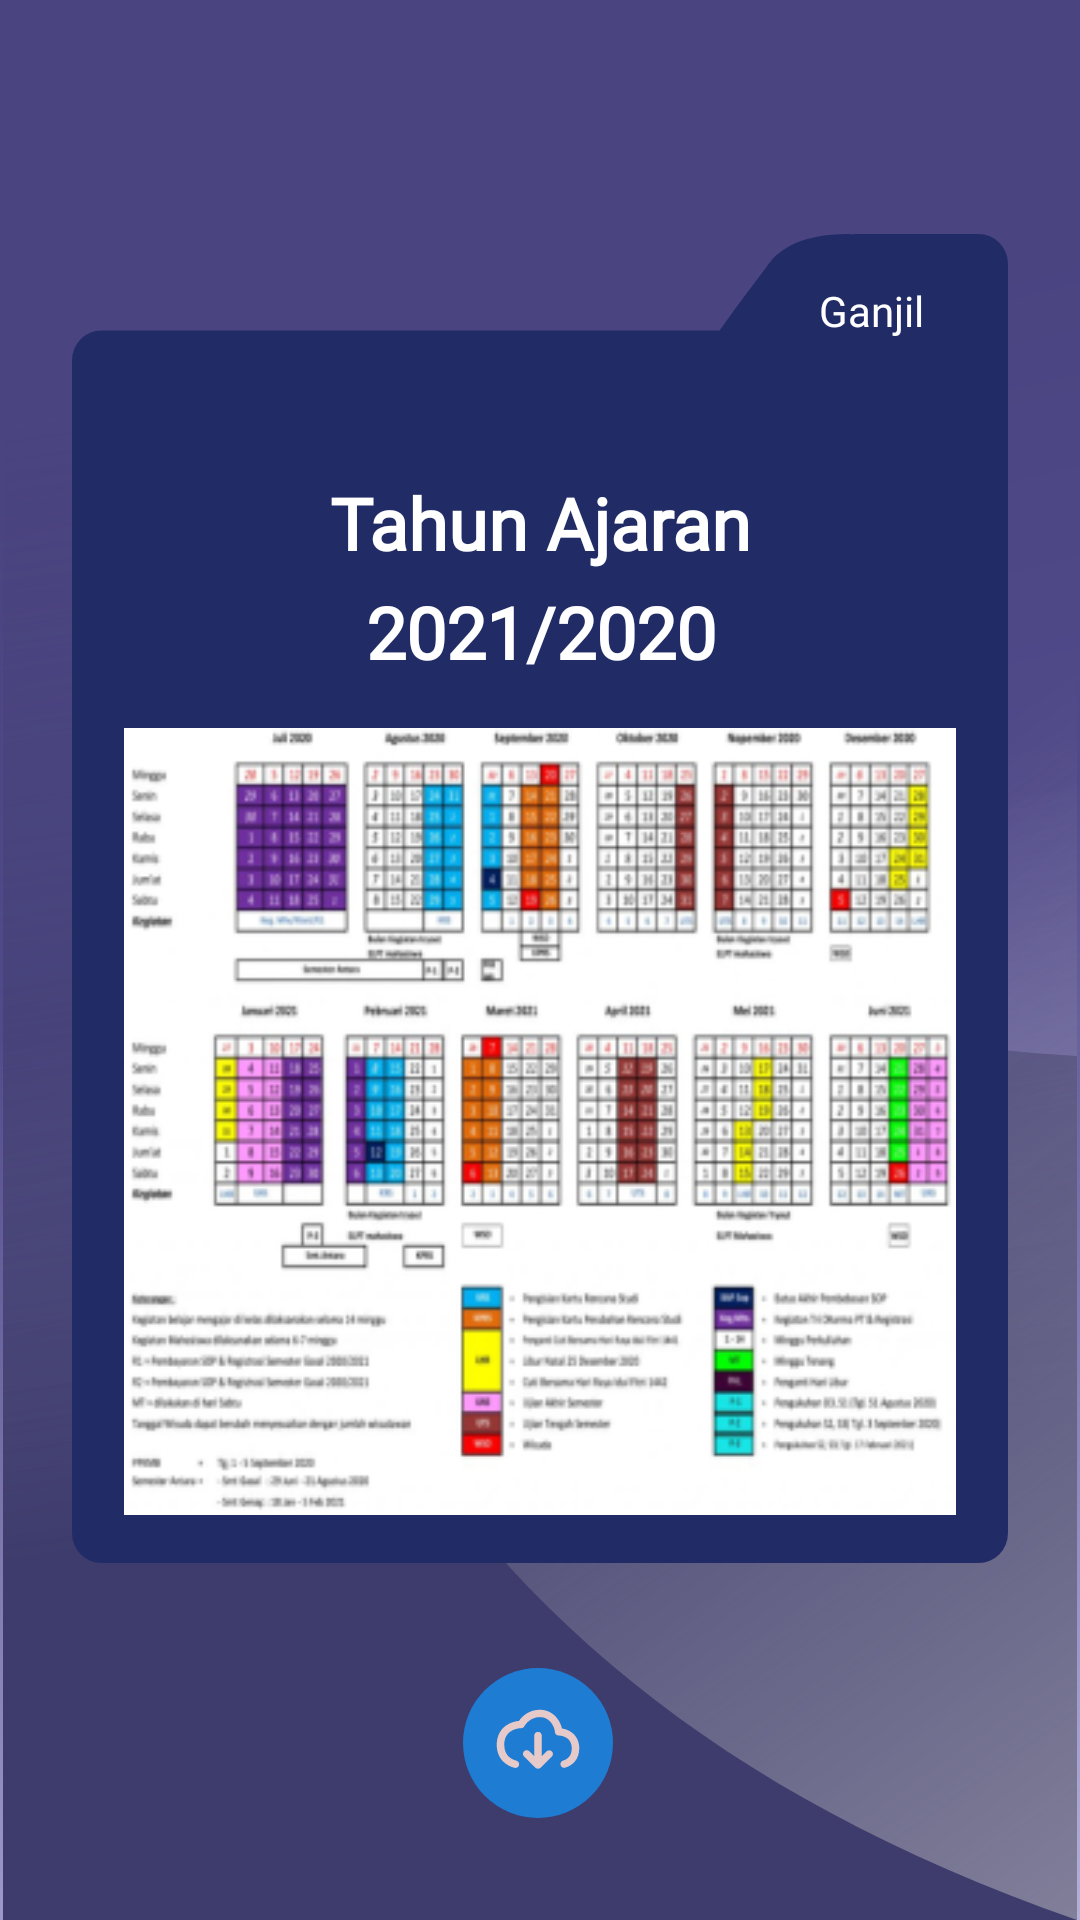

Where icons sit on this 1080w x 1920h app screen, as (x1, y1, x2, y2):
download kalender akademik: (463, 1668, 613, 1818)
